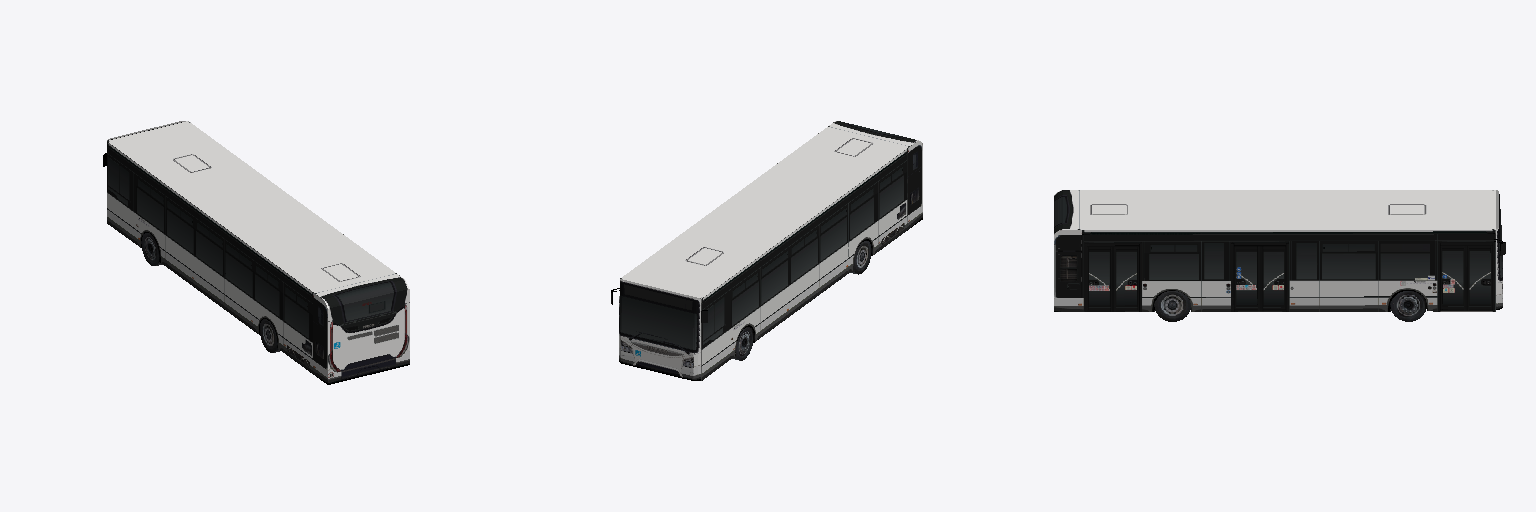
3 renders of one model, left to right at view 1: azimuth 30°, elevation 25°; view 2: azimuth 150°, elevation 25°; view 3: azimuth 270°, elevation 25°, orthographic.
Parts seen in each view (by area): view 1: Box011; view 2: Box011, Plane001; view 3: Box011, Cylinder006, Cylinder005, Plane001.
Part boxes in pixels (left/top/right/bottom): Box011: left=107, top=121, right=409, bottom=384; Box011: left=620, top=121, right=922, bottom=380; Plane001: left=619, top=279, right=700, bottom=380; Box011: left=1054, top=190, right=1495, bottom=311; Cylinder006: left=1154, top=291, right=1190, bottom=321; Cylinder005: left=1390, top=291, right=1426, bottom=321; Plane001: left=1496, top=190, right=1502, bottom=309.
Bounding box in the file's own units: 3.11 × 2.96 × 13.07.
Materials: 1 (1 with a texture image).